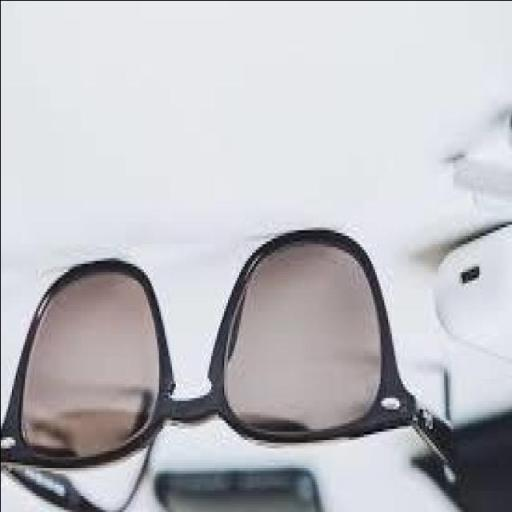glasses: (0, 218, 475, 508)
